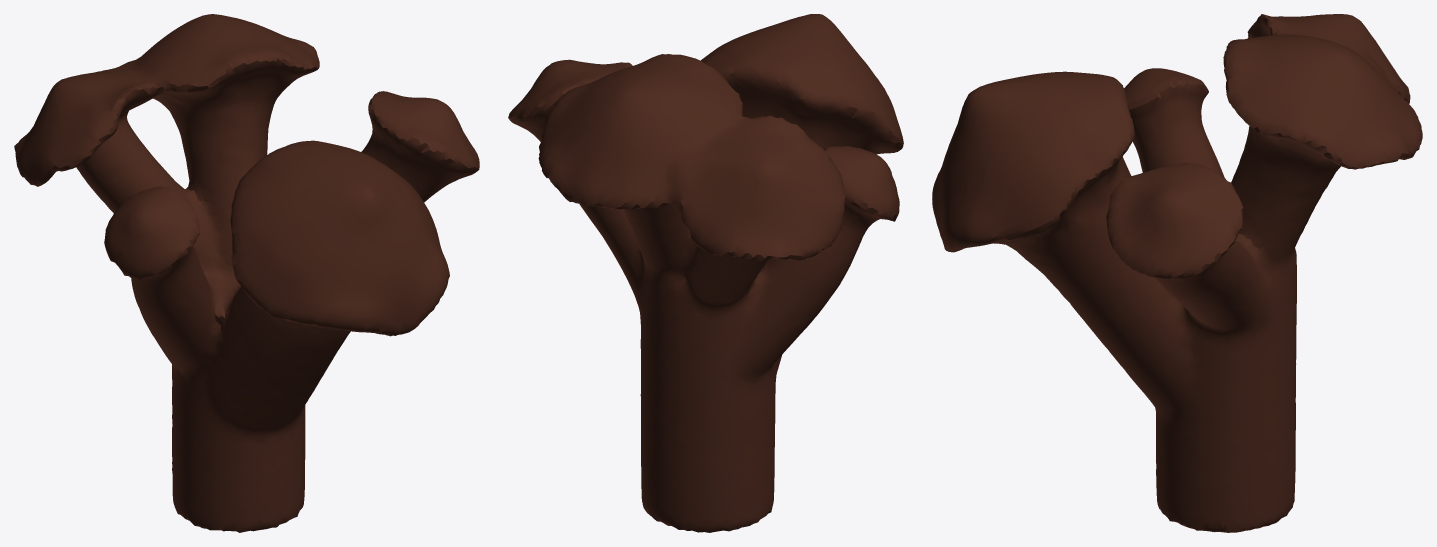
Rendered from stemed_mush_mush.fbx.
3 views of the same model, side by side, from view 1: azimuth 30°, elevation 25°; view 2: azimuth 150°, elevation 25°; view 3: azimuth 270°, elevation 25° (orthographic). The views are drawn at different scales.
Parts seen in each view (by area): view 1: Cylinder.001; view 2: Cylinder.001; view 3: Cylinder.001.
Part boxes in pixels (bbox=[...]): Cylinder.001: bbox=[14, 14, 479, 532]; Cylinder.001: bbox=[508, 14, 903, 532]; Cylinder.001: bbox=[932, 14, 1422, 532].
Bounding box in the file's own units: 646 × 735 × 695.
